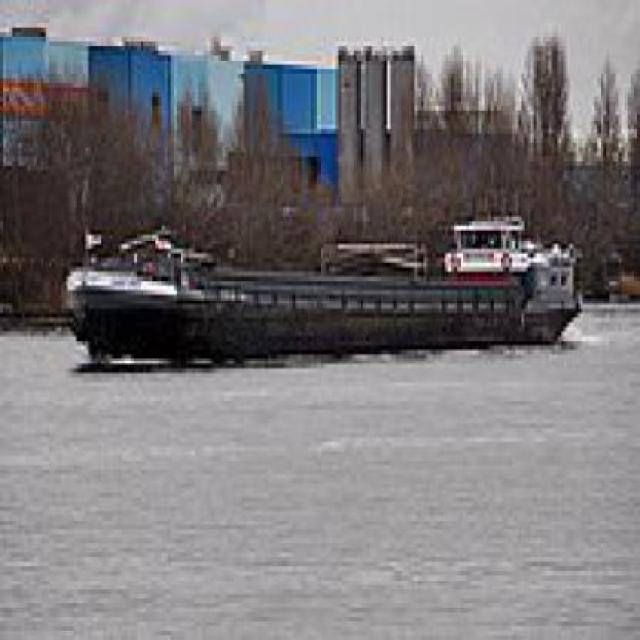container: (56, 199, 590, 374)
